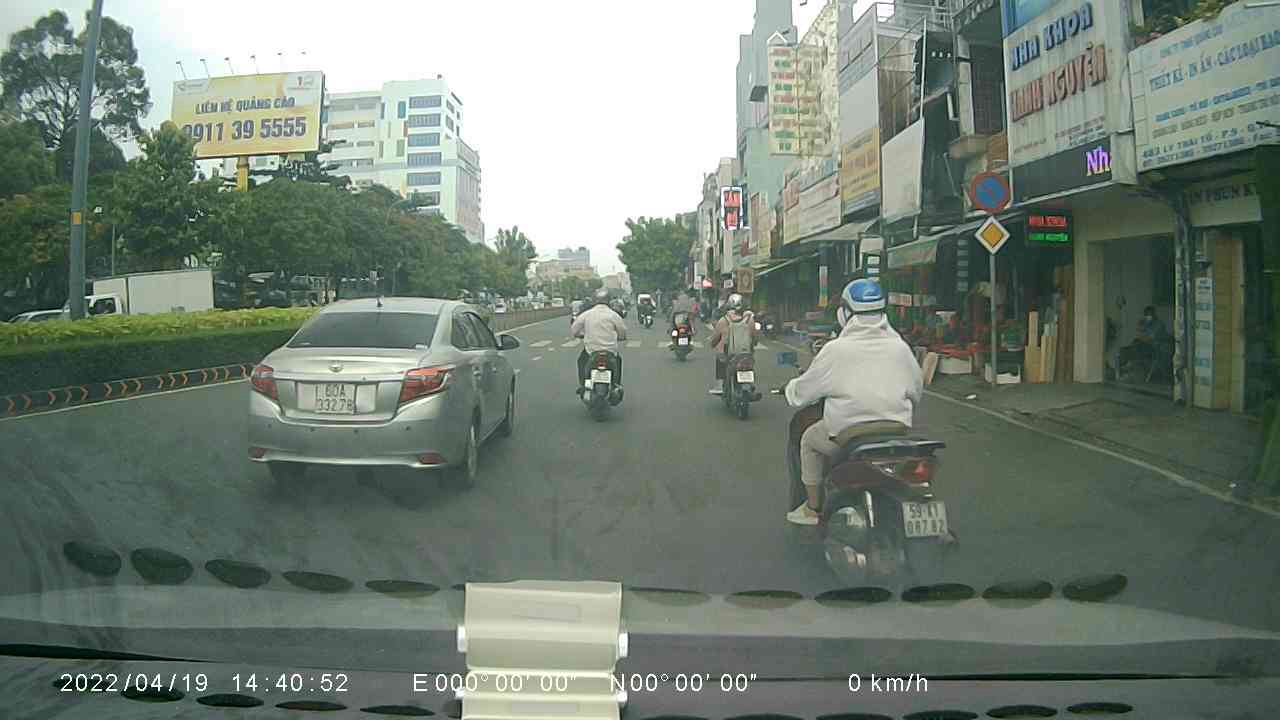Bien khac: (972, 214, 1010, 253)
Cam do xe: (969, 168, 1013, 213)
